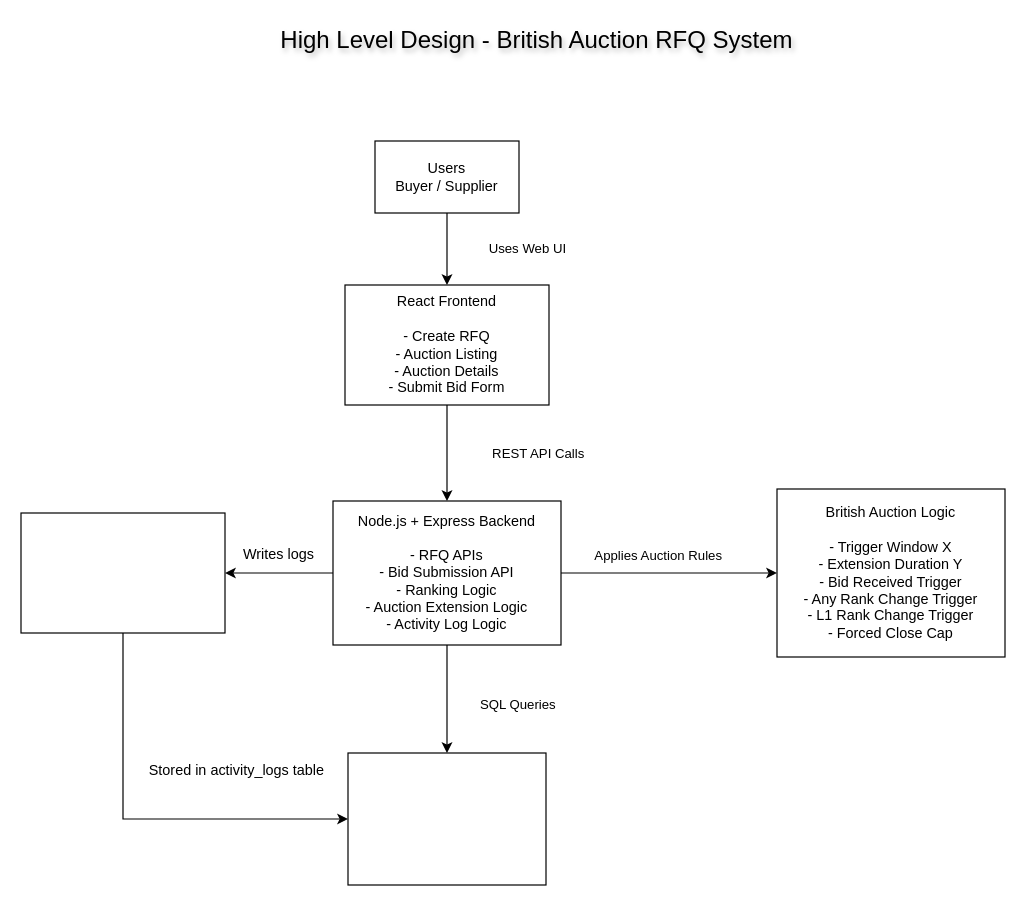
Image size: 1026x906. Some labels were removed from this diagram. Each missing label, with the box of its shape:
Activity Logs - RFQ Created - Bid Submitted - Time Extended - Extension Reason: (20, 512, 225, 633)
SQLite Database Tables: - rfqs - bids - activity_logs: (347, 752, 546, 885)
